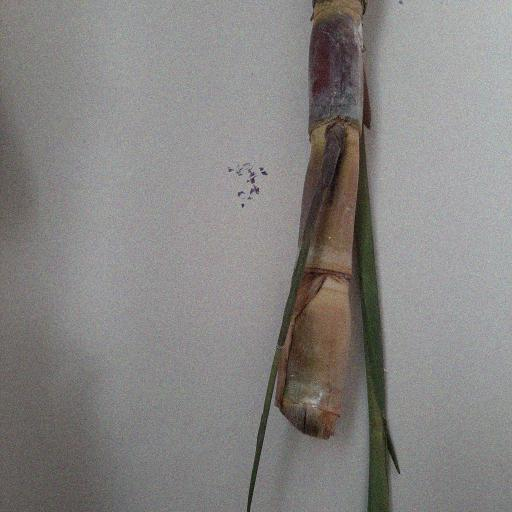Sprouted_Bud: (322, 121, 349, 173)
